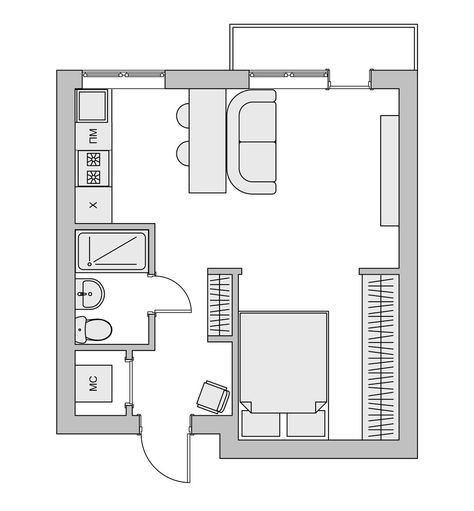door: (136, 433, 196, 485), (154, 273, 193, 319)
room: (225, 235, 421, 461), (224, 73, 418, 234), (56, 70, 225, 230), (58, 225, 158, 351)
wall: (396, 68, 420, 460), (56, 70, 77, 431), (218, 440, 418, 461), (57, 410, 141, 435), (165, 71, 252, 91), (371, 65, 419, 90), (190, 414, 237, 438)
window: (81, 65, 165, 92), (248, 68, 331, 91)
